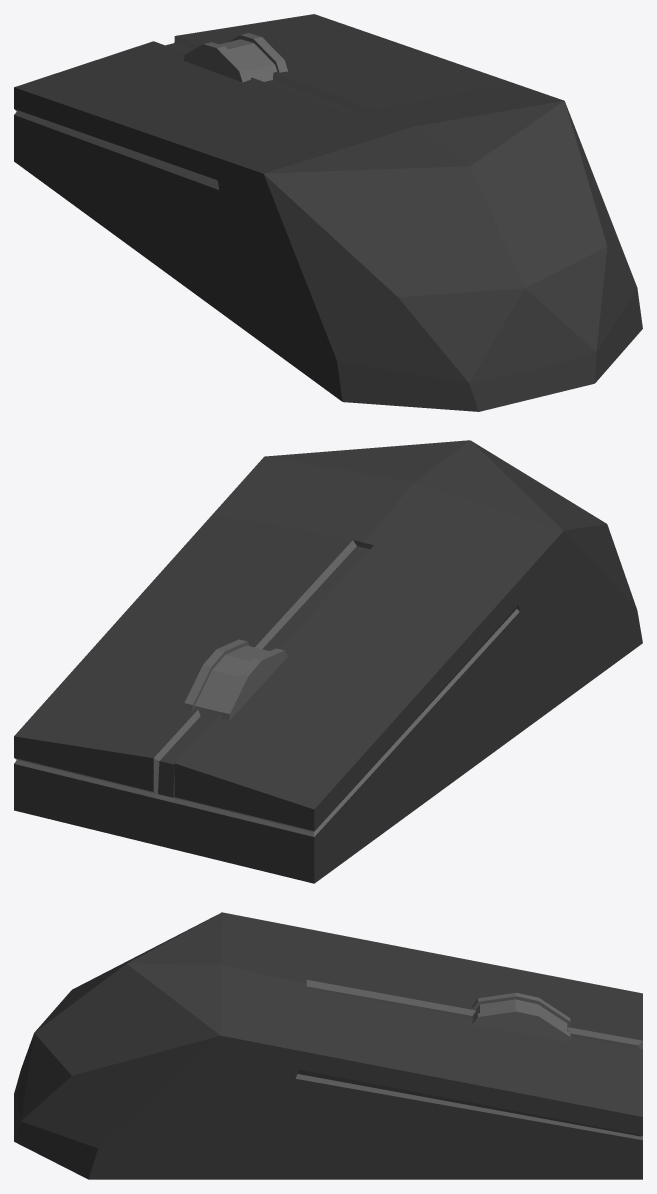
The model's file is MouseV2Black.fbx.
3 renders of one model, top to bottom at view 1: azimuth 30°, elevation 25°; view 2: azimuth 150°, elevation 25°; view 3: azimuth 270°, elevation 25°, orthographic. The views are drawn at different scales.
Visible parts, largest first — view 1: MouseV2Black; view 2: MouseV2Black; view 3: MouseV2Black.
Part boxes in pixels (left/top/right/bottom): MouseV2Black: left=14, top=14, right=642, bottom=411; MouseV2Black: left=14, top=440, right=642, bottom=883; MouseV2Black: left=14, top=912, right=642, bottom=1179.
Bounding box in the file's own units: 3.64 × 2.12 × 7.82.
